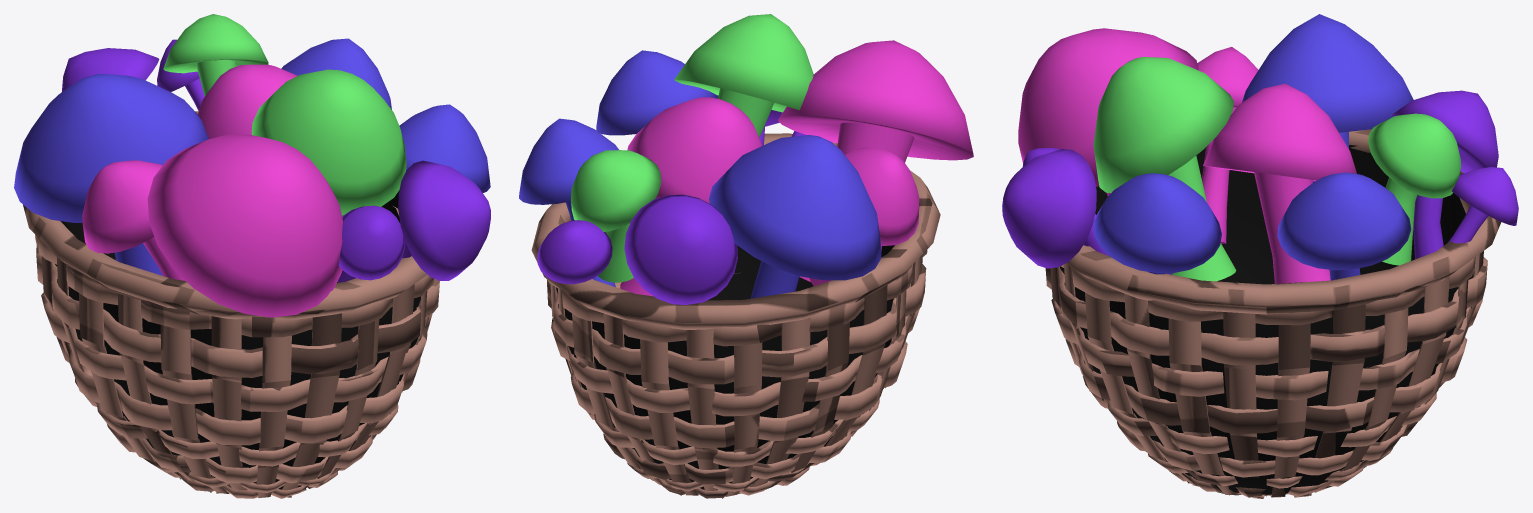
Rendered from MushroomBasket.fbx.
The picture shows the model from 3 angles, left to right: view 1: azimuth 30°, elevation 25°; view 2: azimuth 150°, elevation 25°; view 3: azimuth 270°, elevation 25°; orthographic projection. The views are drawn at different scales.
Parts seen in each view (by area): view 1: Basket_Full; view 2: Basket_Full; view 3: Basket_Full.
Boxes of the visible parts, bbox=[...] form: Basket_Full: bbox=[14, 14, 490, 498]; Basket_Full: bbox=[519, 14, 973, 498]; Basket_Full: bbox=[1002, 14, 1518, 498].
Size of the model in its own units: 64.71 by 73.9 by 78.95.
